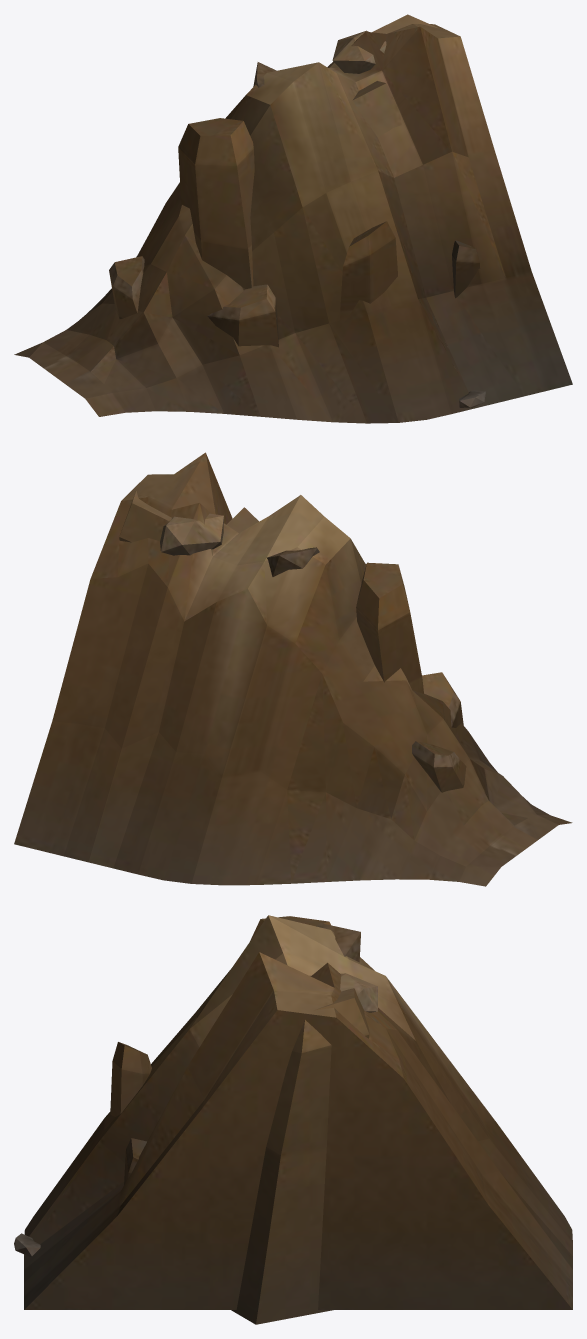
File: cliff-entrance-old.glb
3 views of the same model, one above another, from view 1: azimuth 30°, elevation 25°; view 2: azimuth 150°, elevation 25°; view 3: azimuth 270°, elevation 25° (orthographic). The views are drawn at different scales.
Parts seen in each view (by area): view 1: cliff-entrance; view 2: cliff-entrance; view 3: cliff-entrance.
Part boxes in pixels (x1,y1,x2,y2): cliff-entrance: (14, 14, 572, 423); cliff-entrance: (14, 452, 572, 886); cliff-entrance: (14, 915, 572, 1324).
Bounding box in the file's own units: 3.16 × 2.18 × 3.31.
2 materials, 2 textured.
